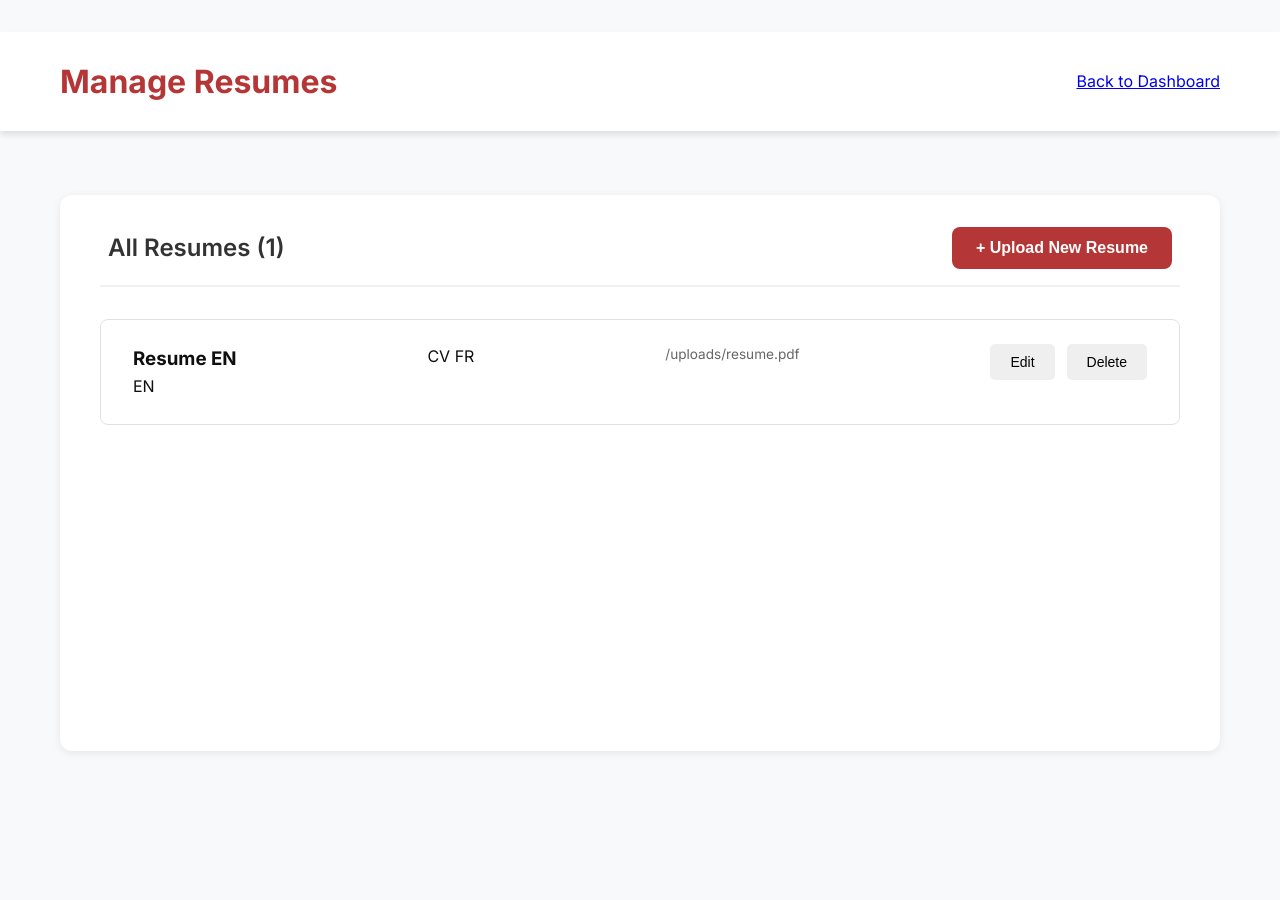
AdminResumes › handles delete error with message fallback
Click the button "Delete": coordinates (1107, 362) x1=1066 y1=344 x2=1147 y2=380
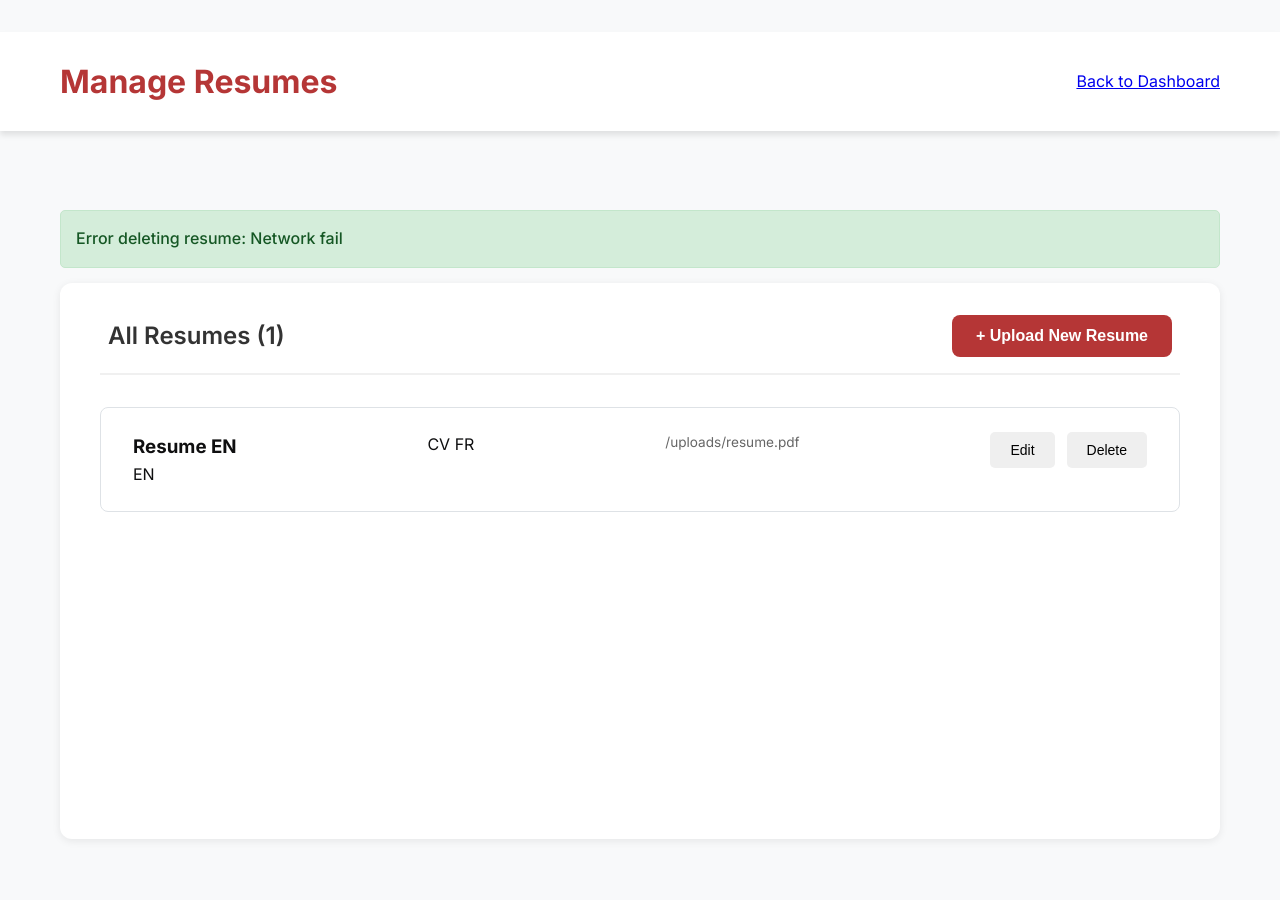
Expected: the text "Error deleting resume: Network fail" is shown, x1=60 y1=210 x2=1220 y2=268
